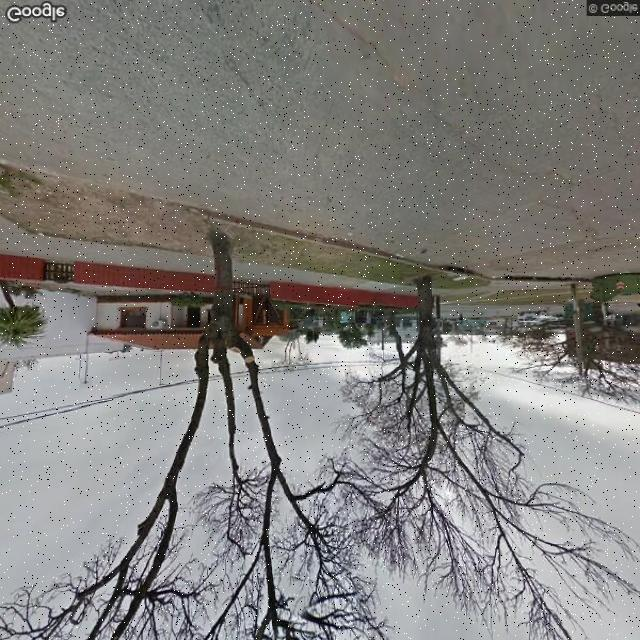garbage container: (585, 268, 640, 314)
